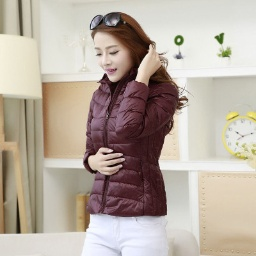face: (86, 11, 154, 82)
